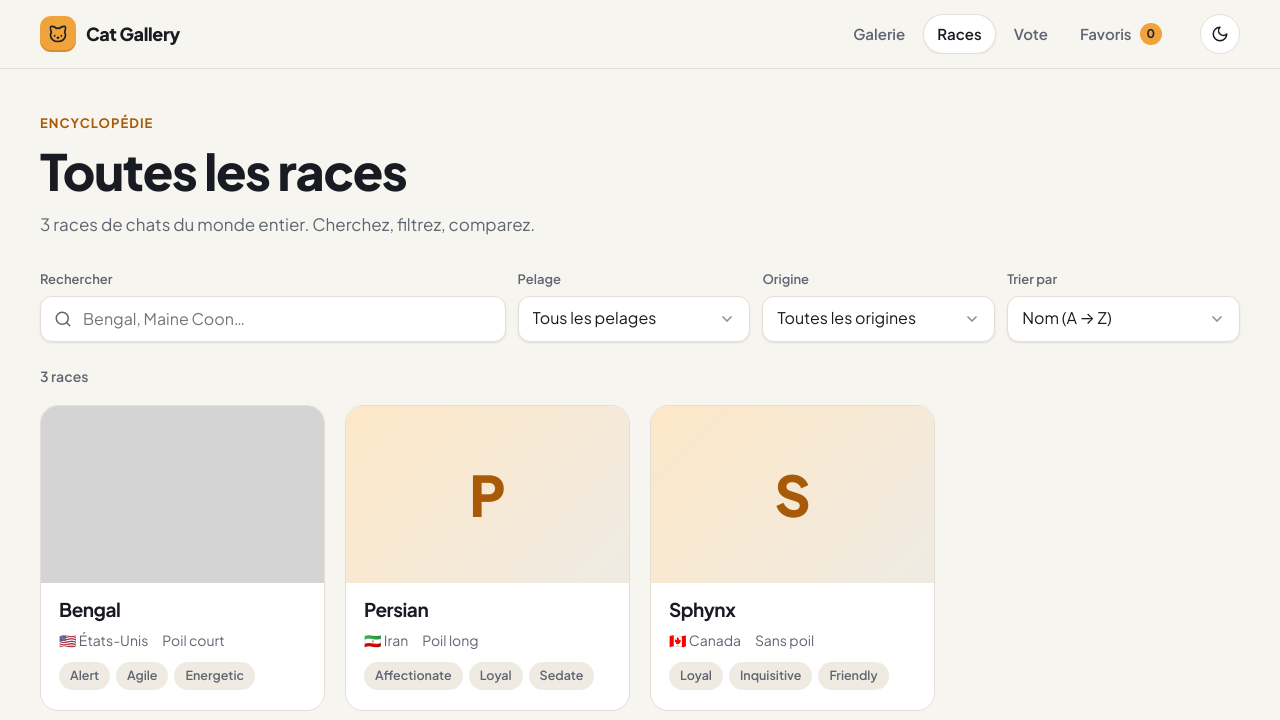
breeds › shows an empty state when nothing matches
Step 1. Type "dragon" into the search field → (273, 319), box [40, 296, 506, 342]
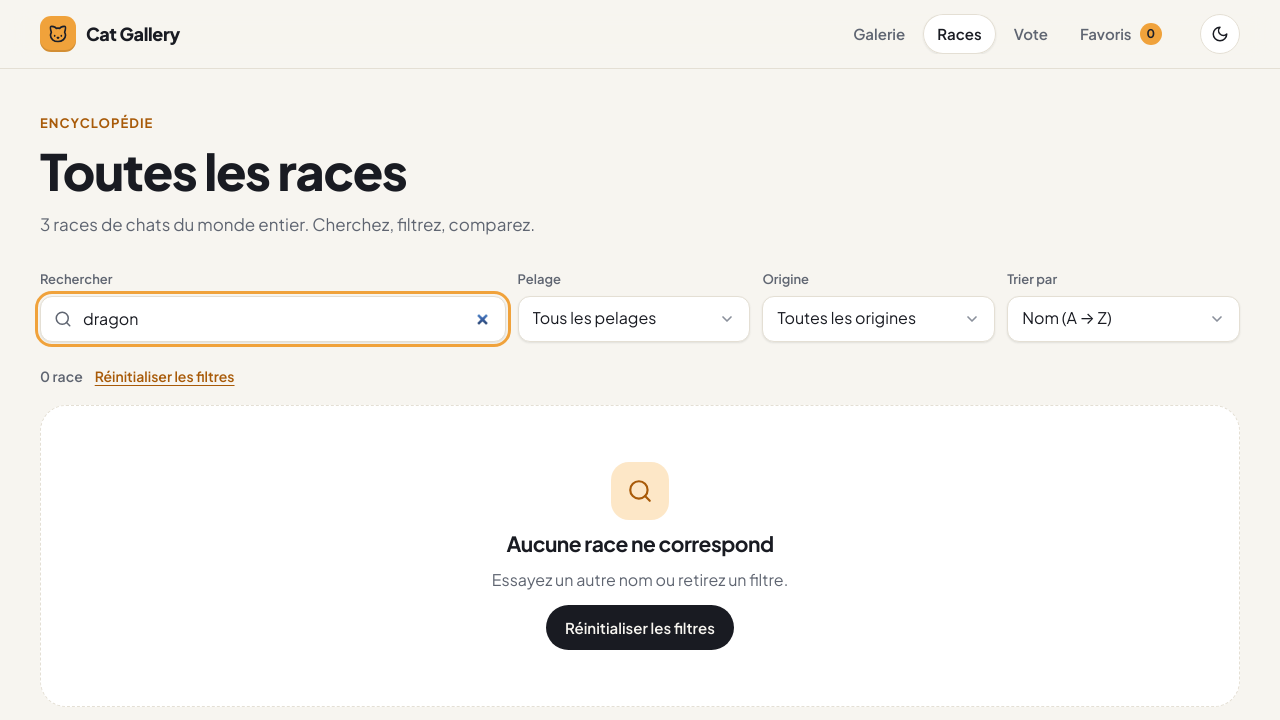
Expected: the heading "Aucune race ne correspond" is shown, [506, 532, 774, 556]
